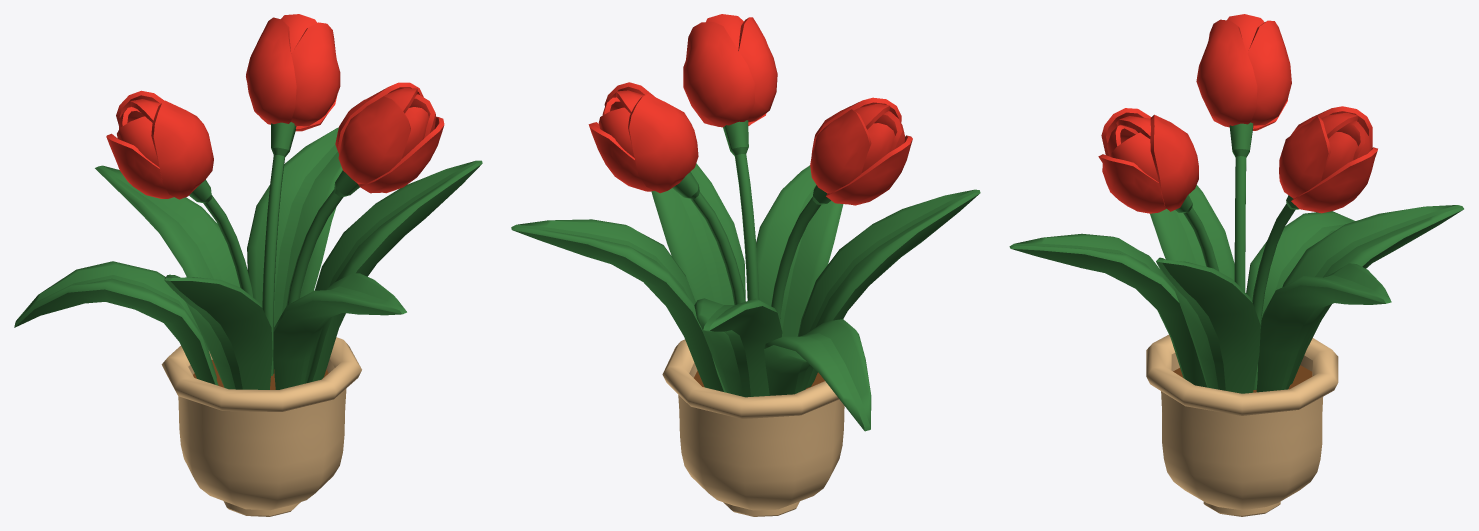
The model's file is Plant_4.fbx.
3 renders of one model, left to right at view 1: azimuth 30°, elevation 25°; view 2: azimuth 150°, elevation 25°; view 3: azimuth 270°, elevation 25°, orthographic.
Visible parts, largest first — view 1: Plant_4; view 2: Plant_4; view 3: Plant_4.
Boxes of the visible parts, x1,y1,x2,y2 form: Plant_4: [14, 14, 482, 516]; Plant_4: [511, 14, 980, 516]; Plant_4: [1009, 14, 1463, 516].
Size of the model in its own units: 0.4366 by 0.497 by 0.4788.
